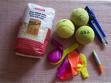tennis ball: (55, 18, 75, 39), (69, 7, 89, 26), (75, 25, 95, 44)
